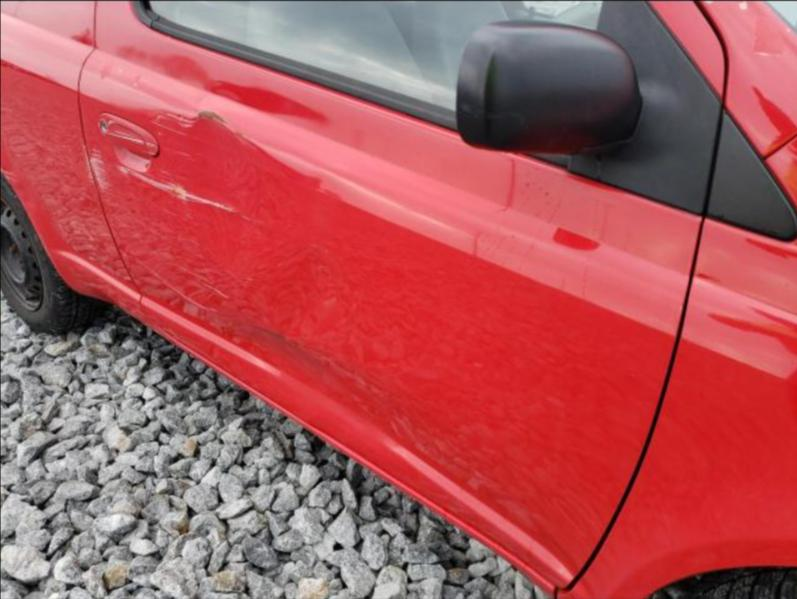Corrosion: (192, 103, 230, 128)
Dent: (89, 79, 321, 324), (233, 331, 428, 481), (102, 46, 327, 119)
Scratch: (112, 158, 265, 229), (133, 255, 218, 316), (150, 250, 235, 302), (137, 257, 213, 307), (134, 101, 206, 142), (77, 140, 111, 194), (176, 263, 224, 298), (106, 127, 159, 154), (145, 118, 194, 138), (164, 142, 205, 161), (106, 130, 157, 145), (156, 108, 198, 126), (165, 146, 198, 161), (159, 169, 178, 178), (144, 151, 158, 157)
